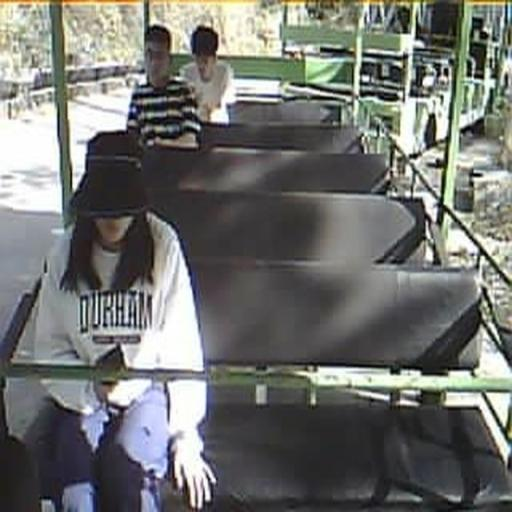persona: (6, 129, 218, 511), (125, 24, 205, 152), (178, 24, 234, 124)
